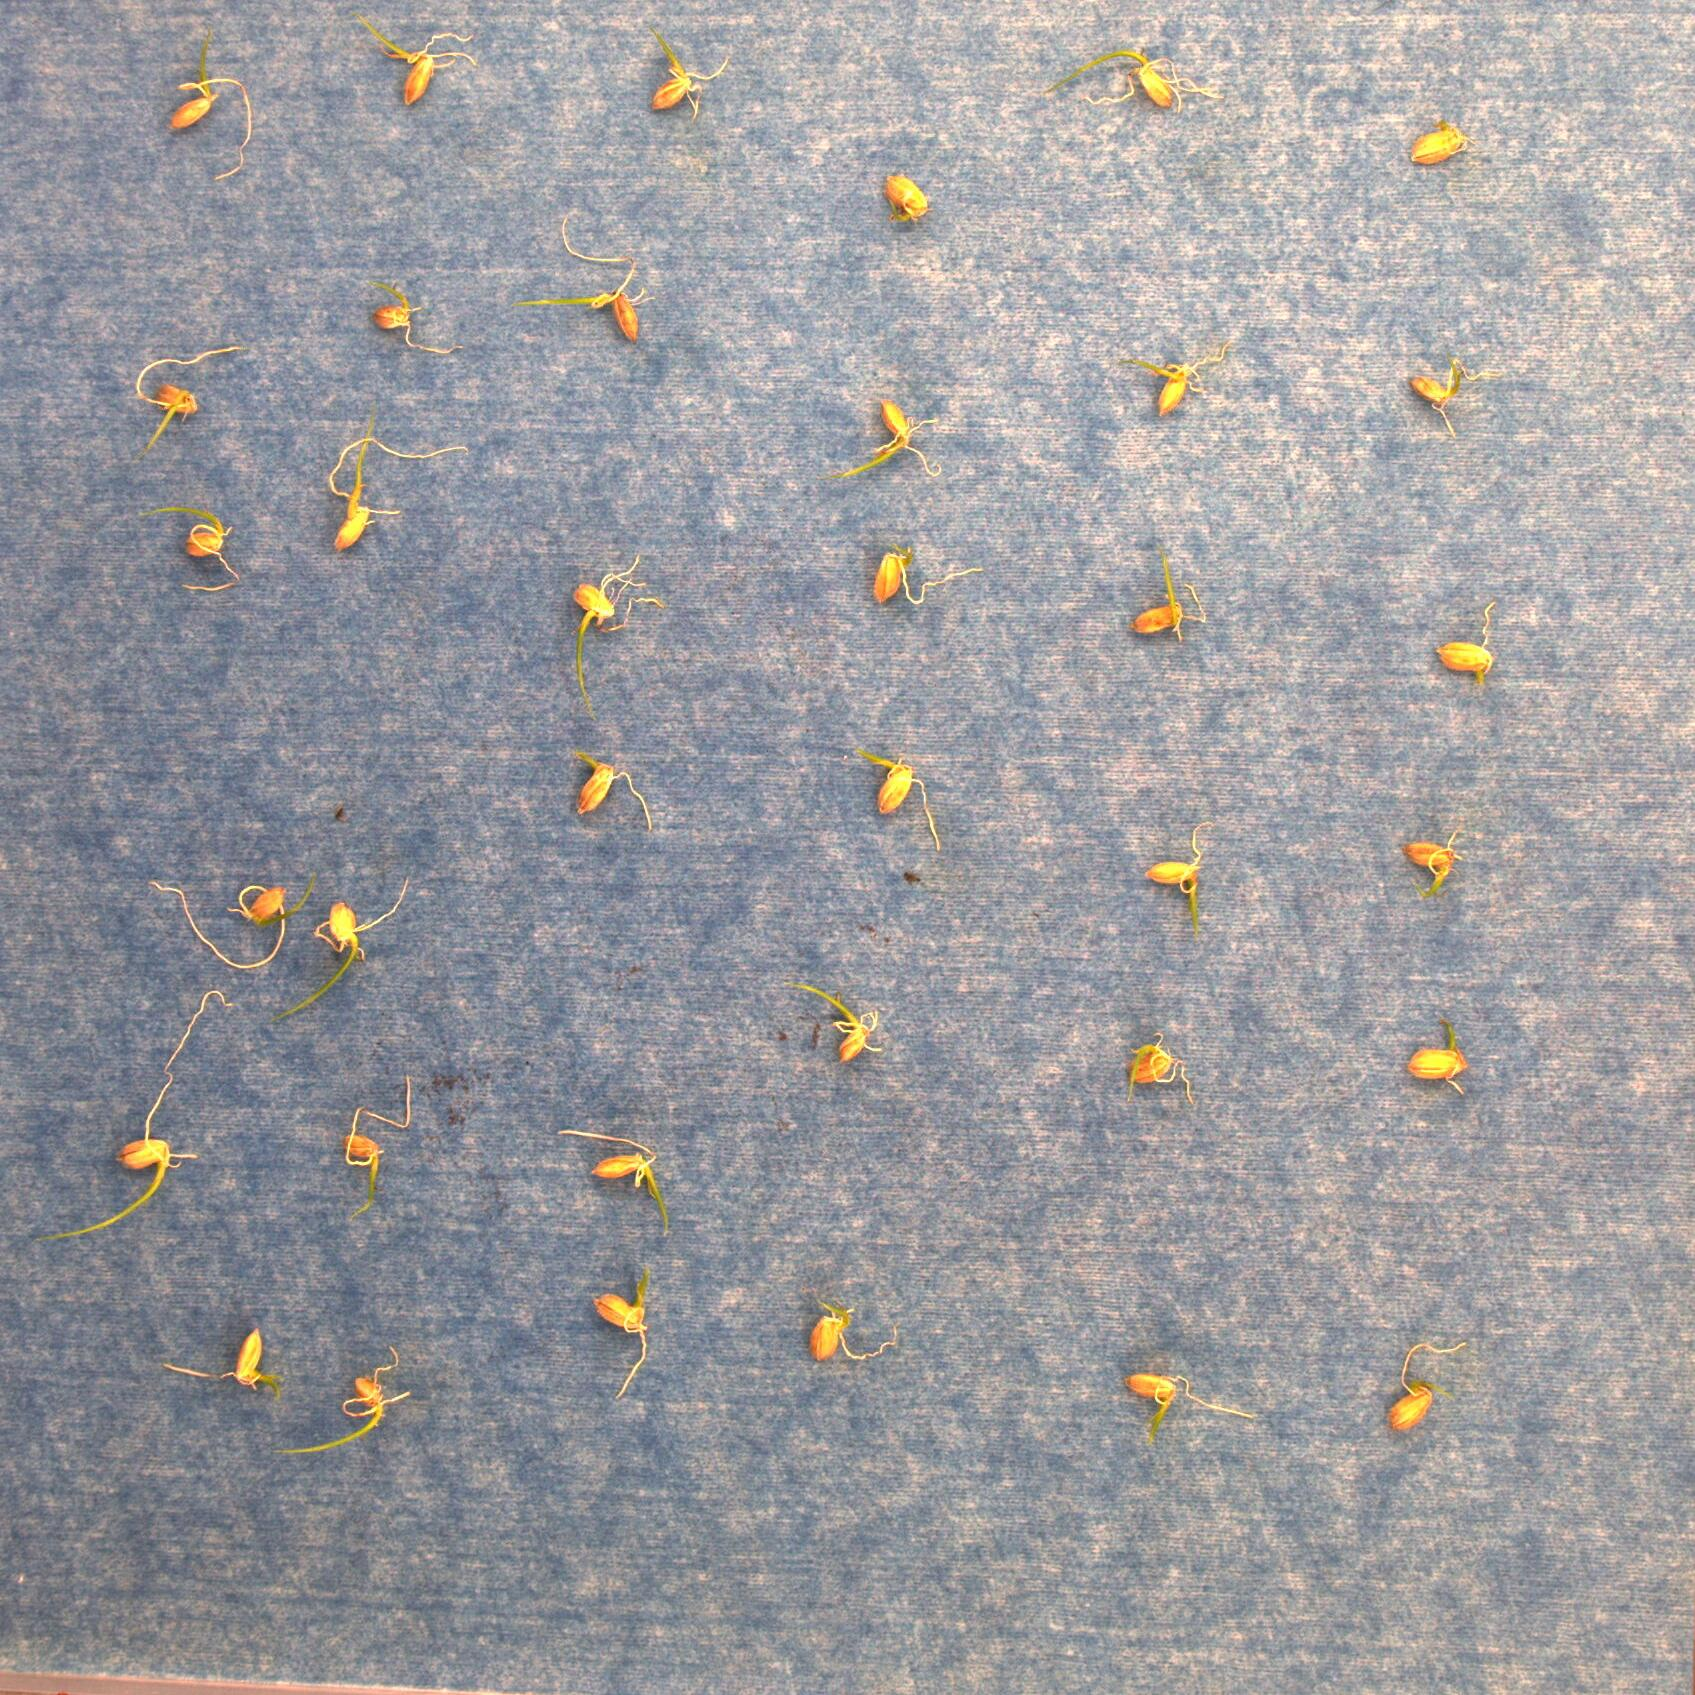not sprout: (1433, 601, 1499, 688), (875, 165, 928, 231), (1403, 112, 1468, 165)
sprout: (47, 987, 224, 1242), (272, 872, 413, 1015), (324, 411, 470, 548), (512, 210, 646, 345), (563, 549, 663, 719), (147, 875, 320, 972), (276, 1347, 411, 1451), (554, 1125, 671, 1236), (132, 345, 247, 449), (163, 43, 250, 180), (113, 504, 244, 591), (355, 12, 477, 106), (1045, 53, 1218, 112), (160, 1326, 281, 1408), (771, 979, 886, 1065), (855, 751, 944, 854), (1118, 1366, 1253, 1433), (868, 542, 995, 612), (593, 1253, 652, 1399), (844, 394, 941, 480), (1130, 536, 1205, 643), (1146, 818, 1212, 938), (1383, 1343, 1471, 1433), (1125, 346, 1232, 419), (360, 278, 459, 354), (348, 1077, 411, 1195), (559, 754, 653, 834), (652, 29, 728, 123), (807, 1298, 906, 1361), (1406, 354, 1478, 439), (1125, 1035, 1194, 1107), (1403, 1021, 1470, 1093), (1399, 827, 1454, 897)
